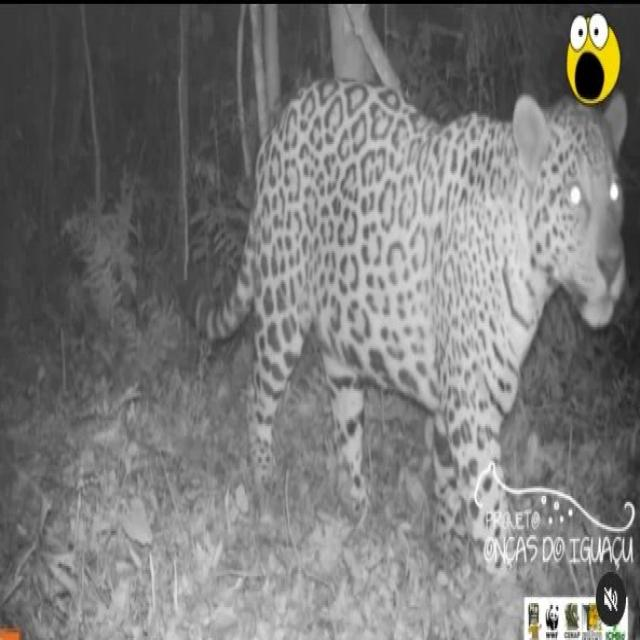Jaguar: (195, 80, 626, 531)
